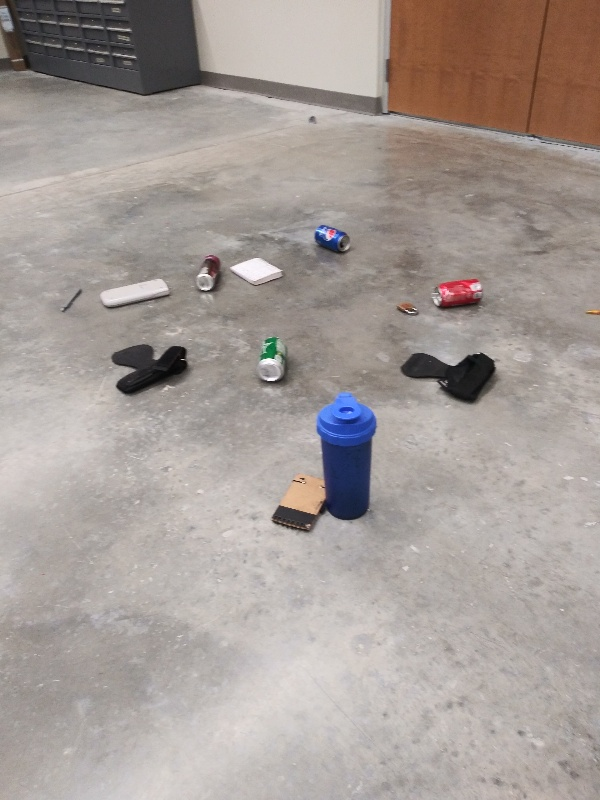can: (425, 277, 490, 309), (254, 334, 291, 384), (312, 220, 353, 254), (192, 251, 223, 295)
